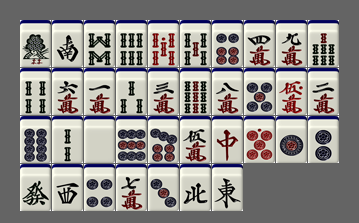0m: (276, 68, 307, 115)
0p: (244, 116, 275, 163)
0s: (148, 20, 179, 67)
1m: (84, 68, 115, 115)
1p: (276, 116, 307, 163)
1s: (20, 20, 51, 67)
1z: (212, 164, 243, 211)
2m: (308, 68, 339, 115)
2p: (308, 116, 339, 163)
2s: (52, 116, 83, 163)
2z: (52, 20, 83, 67)
3m: (148, 68, 179, 115)
3p: (148, 164, 179, 211)
3s: (116, 68, 147, 115)
3z: (52, 164, 83, 211)
4m: (244, 20, 275, 67)
4p: (84, 164, 115, 211)
4s: (20, 68, 51, 115)
4z: (180, 164, 211, 211)
5m: (180, 116, 211, 163)
5p: (244, 68, 275, 115)
5s: (180, 20, 211, 67)
5z: (84, 116, 115, 163)
6m: (52, 68, 83, 115)
6p: (212, 20, 243, 67)
6s: (116, 20, 147, 67)
6z: (20, 164, 51, 211)
7m: (116, 164, 147, 211)
7p: (148, 116, 179, 163)
7s: (308, 20, 339, 67)
7z: (212, 116, 243, 163)
8m: (212, 68, 243, 115)
8p: (20, 116, 51, 163)
8s: (84, 20, 115, 67)
9m: (276, 20, 307, 67)
9p: (116, 116, 147, 163)
9s: (180, 68, 211, 115)
